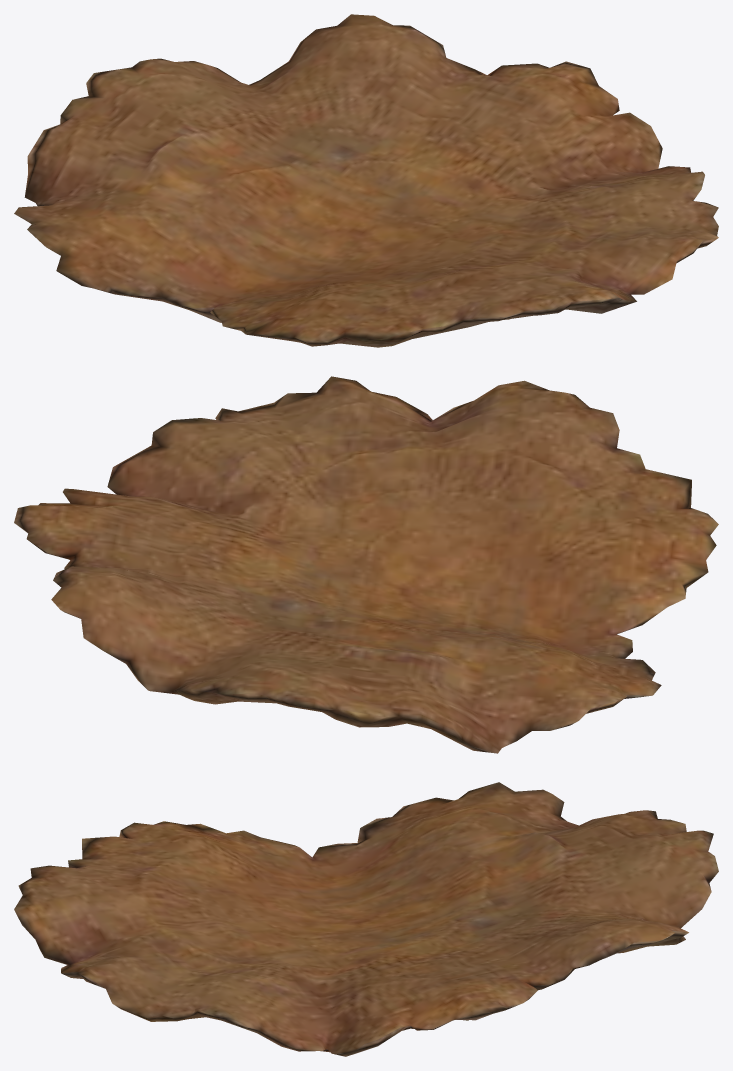
The model's file is Plant - Alien Mushroom Big3-XRPI01zz.glb.
The picture shows the model from 3 angles, top to bottom: view 1: azimuth 30°, elevation 25°; view 2: azimuth 150°, elevation 25°; view 3: azimuth 270°, elevation 25°; orthographic projection. The views are drawn at different scales.
Parts seen in each view (by area): view 1: Mushroom_Big3(Clone); view 2: Mushroom_Big3(Clone); view 3: Mushroom_Big3(Clone).
Part boxes in pixels (bbox=[...]): Mushroom_Big3(Clone): bbox=[14, 14, 718, 347]; Mushroom_Big3(Clone): bbox=[14, 376, 718, 753]; Mushroom_Big3(Clone): bbox=[14, 782, 718, 1056].
Size of the model in its own units: 1.43 by 0.3796 by 1.58.
Materials: 1 (1 with a texture image).
